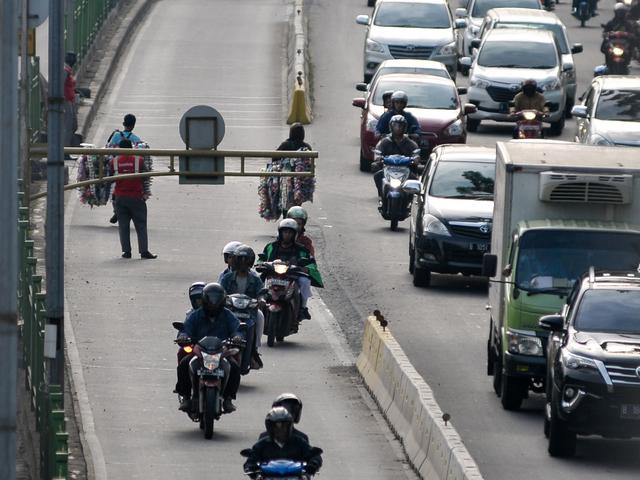car: (496, 141, 640, 421), (539, 273, 640, 459), (410, 141, 512, 290), (467, 27, 565, 141), (358, 78, 464, 175), (480, 10, 577, 116), (361, 58, 464, 132), (363, 2, 455, 78), (458, 1, 550, 75), (577, 75, 640, 159)
motorbike: (175, 279, 235, 442), (258, 207, 319, 352), (217, 242, 267, 385), (243, 397, 317, 480), (375, 119, 413, 236), (377, 91, 419, 184), (514, 78, 547, 143), (604, 5, 633, 74)
